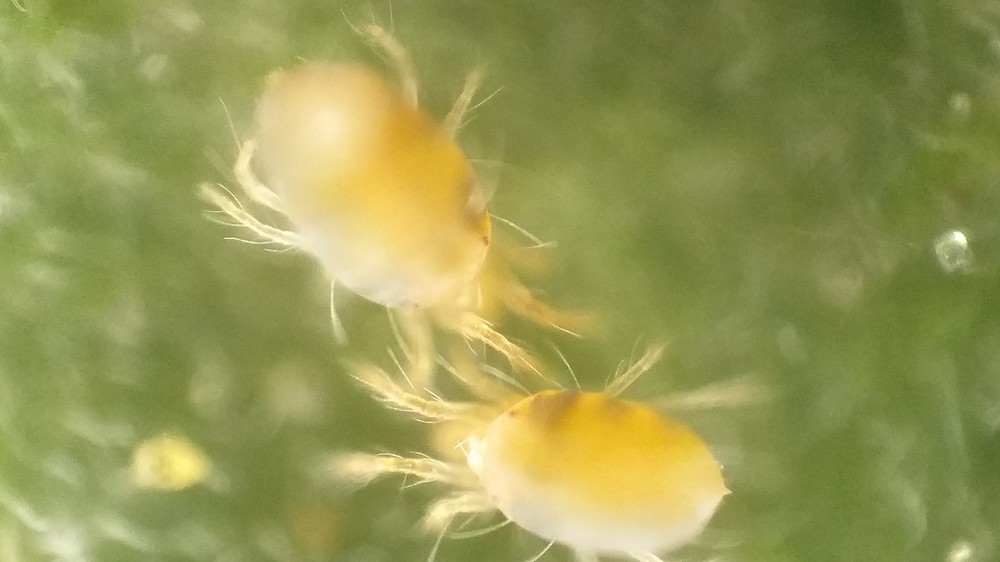Aracnido Rojo: (219, 35, 628, 370), (344, 345, 825, 562)
